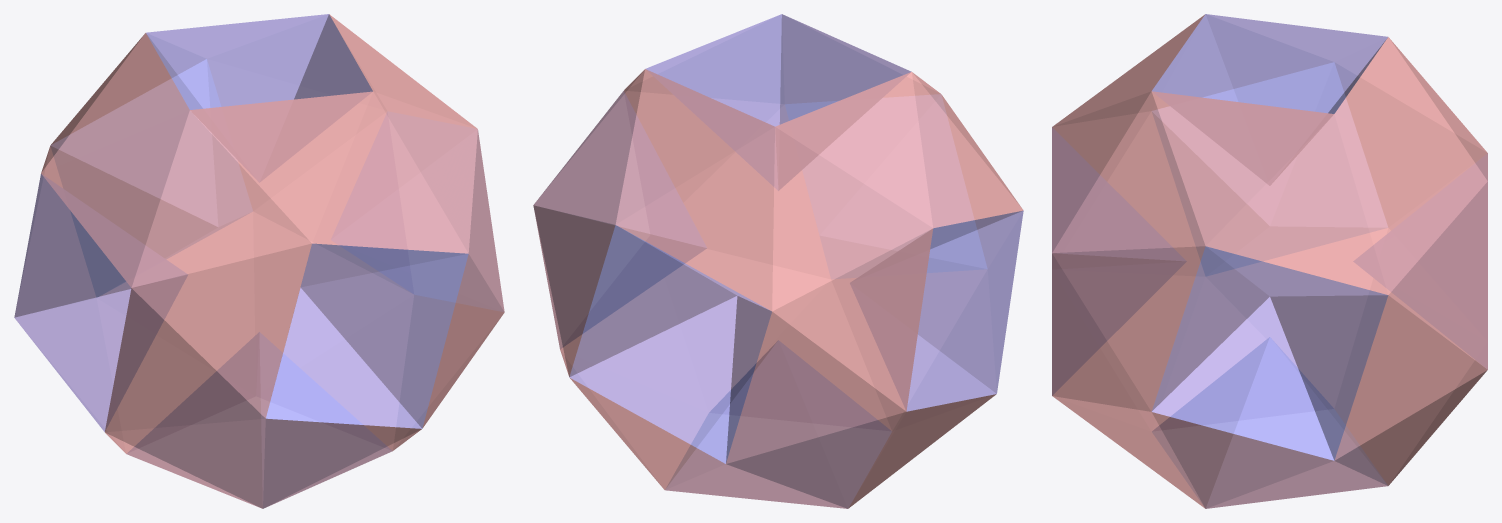
The model's file is 15_Hexexcavated_Snub_Cube.obj.
3 renders of one model, left to right at view 1: azimuth 30°, elevation 25°; view 2: azimuth 150°, elevation 25°; view 3: azimuth 270°, elevation 25°, orthographic.
Size of the model in its own units: 2.29 by 2.29 by 2.29.
